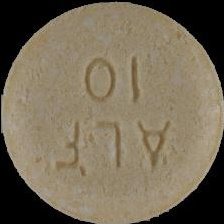42291-110: (0, 0, 224, 224)
